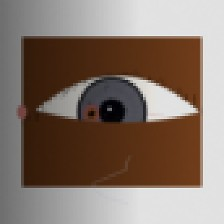foreign_body_visible: (72, 98, 112, 130)
